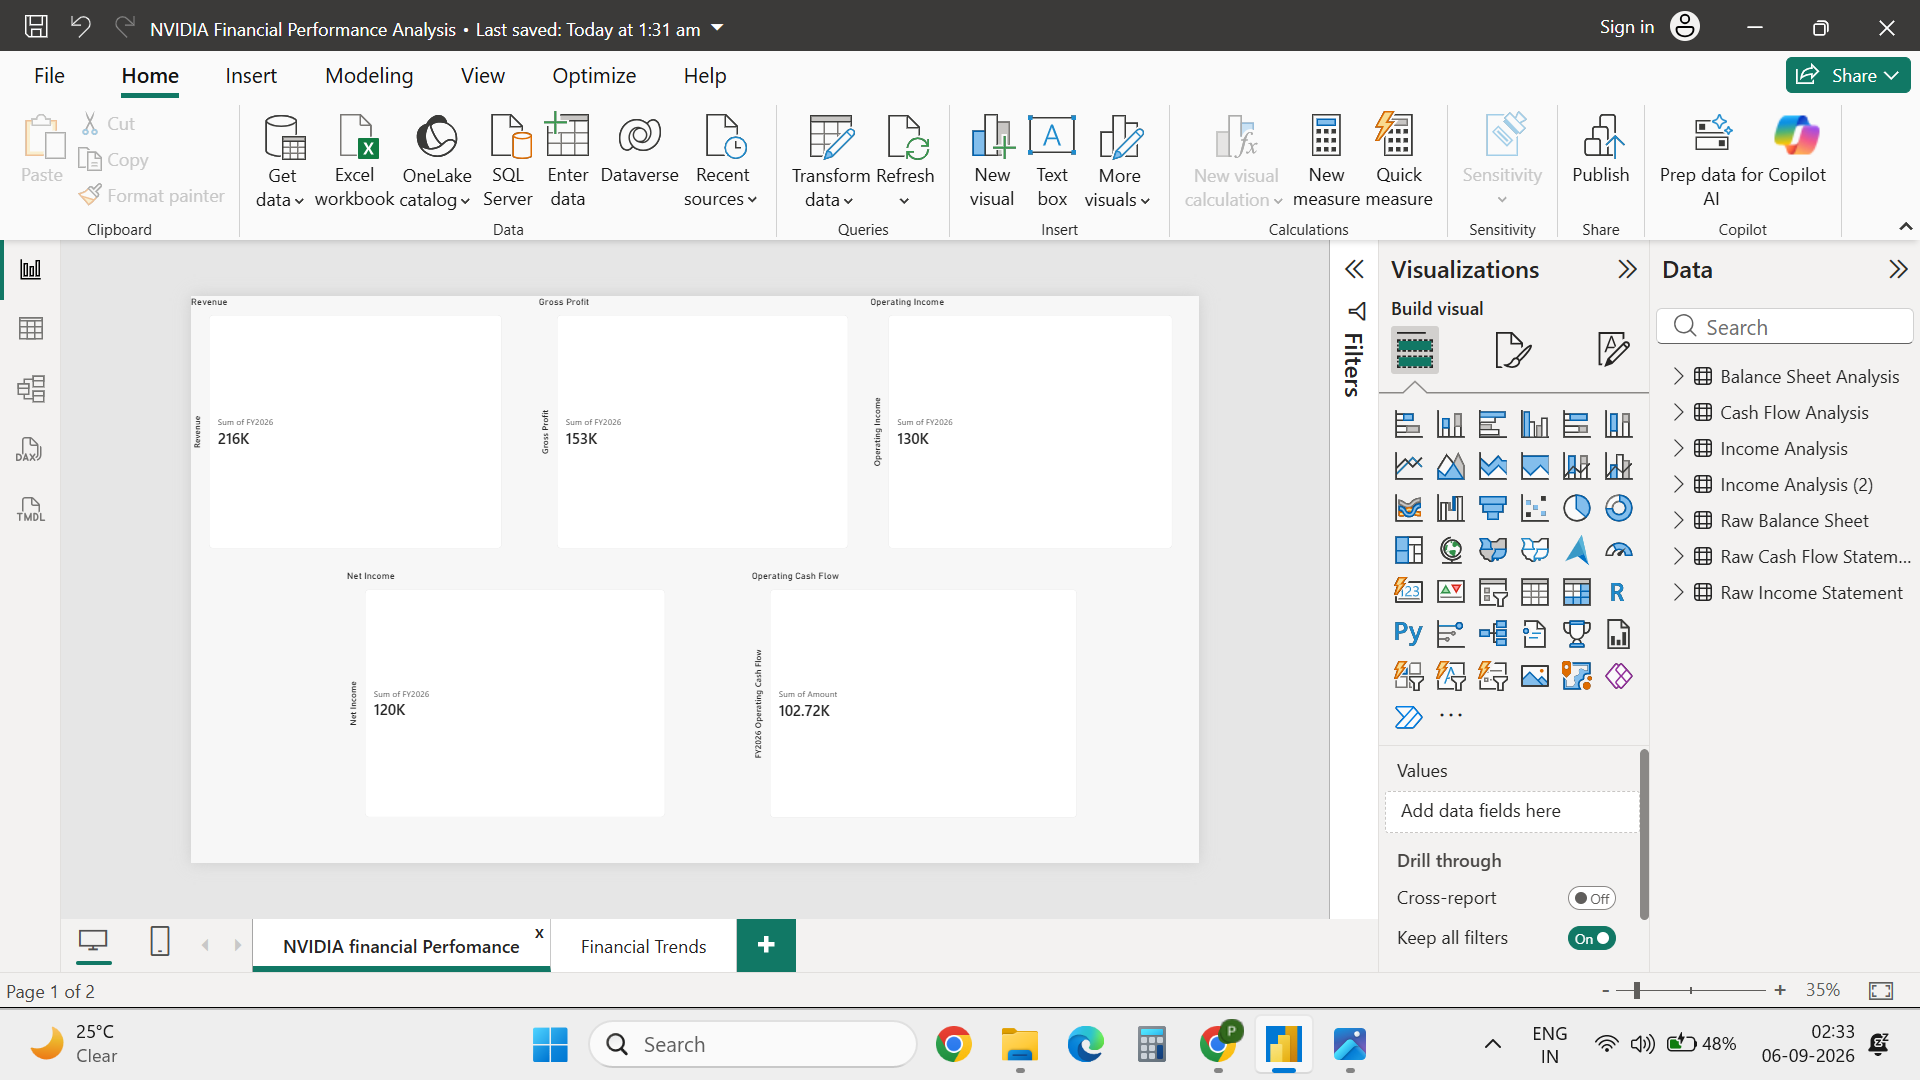

The dashboard page shown, as its layout file describes it:
{"tool":"powerbi","page":{"name":"NVIDIA financial Perfomance ","canvas":[1920,1080],"ordinal":0},"visuals":[{"type":"cardVisual","title":"Operating Cash Flow ","fields":{"Data":["Sum(Cash Flow Analysis.Amount)"],"Rows":["Cash Flow Analysis.Year","Cash Flow Analysis.Particular                         "]},"box":[1066.5,498.7,620.3,470],"z":4},{"type":"cardVisual","title":"Revenue","fields":{"Data":["Sum(Income Analysis (2).FY2026)"],"Rows":["Income Analysis (2).Particular"]},"box":[0,0,592.4,481.9],"z":5},{"type":"cardVisual","fields":{"Data":["Sum(Income Analysis (2).FY2026)"],"Rows":["Income Analysis (2).Particular"]},"box":[663.3,0,589.6,481.9],"z":6},{"type":"cardVisual","fields":{"Data":["Sum(Income Analysis (2).FY2026)"],"Rows":["Income Analysis (2).Particular"]},"box":[1295.4,0,575.4,481.9],"z":7},{"type":"cardVisual","fields":{"Data":["Sum(Income Analysis (2).FY2026)"],"Rows":["Income Analysis (2).Particular"]},"box":[295.9,522.5,606.6,470.6],"z":8}]}

Visuals, with their boxes on the page's 1920x1080 design canvas (x1, y1, x2, y2). These are canvas units, not pixel positions in the 1920x1080 screenshot, which may show the page scaled, cropped or inside an application window:
"Operating Cash Flow " cardVisual: [x1=1066, y1=499, x2=1687, y2=969]
"Revenue" cardVisual: [x1=0, y1=0, x2=592, y2=482]
cardVisual - Sum(Income Analysis (2).FY2026) x Income Analysis (2).Particular: [x1=663, y1=0, x2=1253, y2=482]
cardVisual - Sum(Income Analysis (2).FY2026) x Income Analysis (2).Particular: [x1=1295, y1=0, x2=1871, y2=482]
cardVisual - Sum(Income Analysis (2).FY2026) x Income Analysis (2).Particular: [x1=296, y1=522, x2=902, y2=993]
